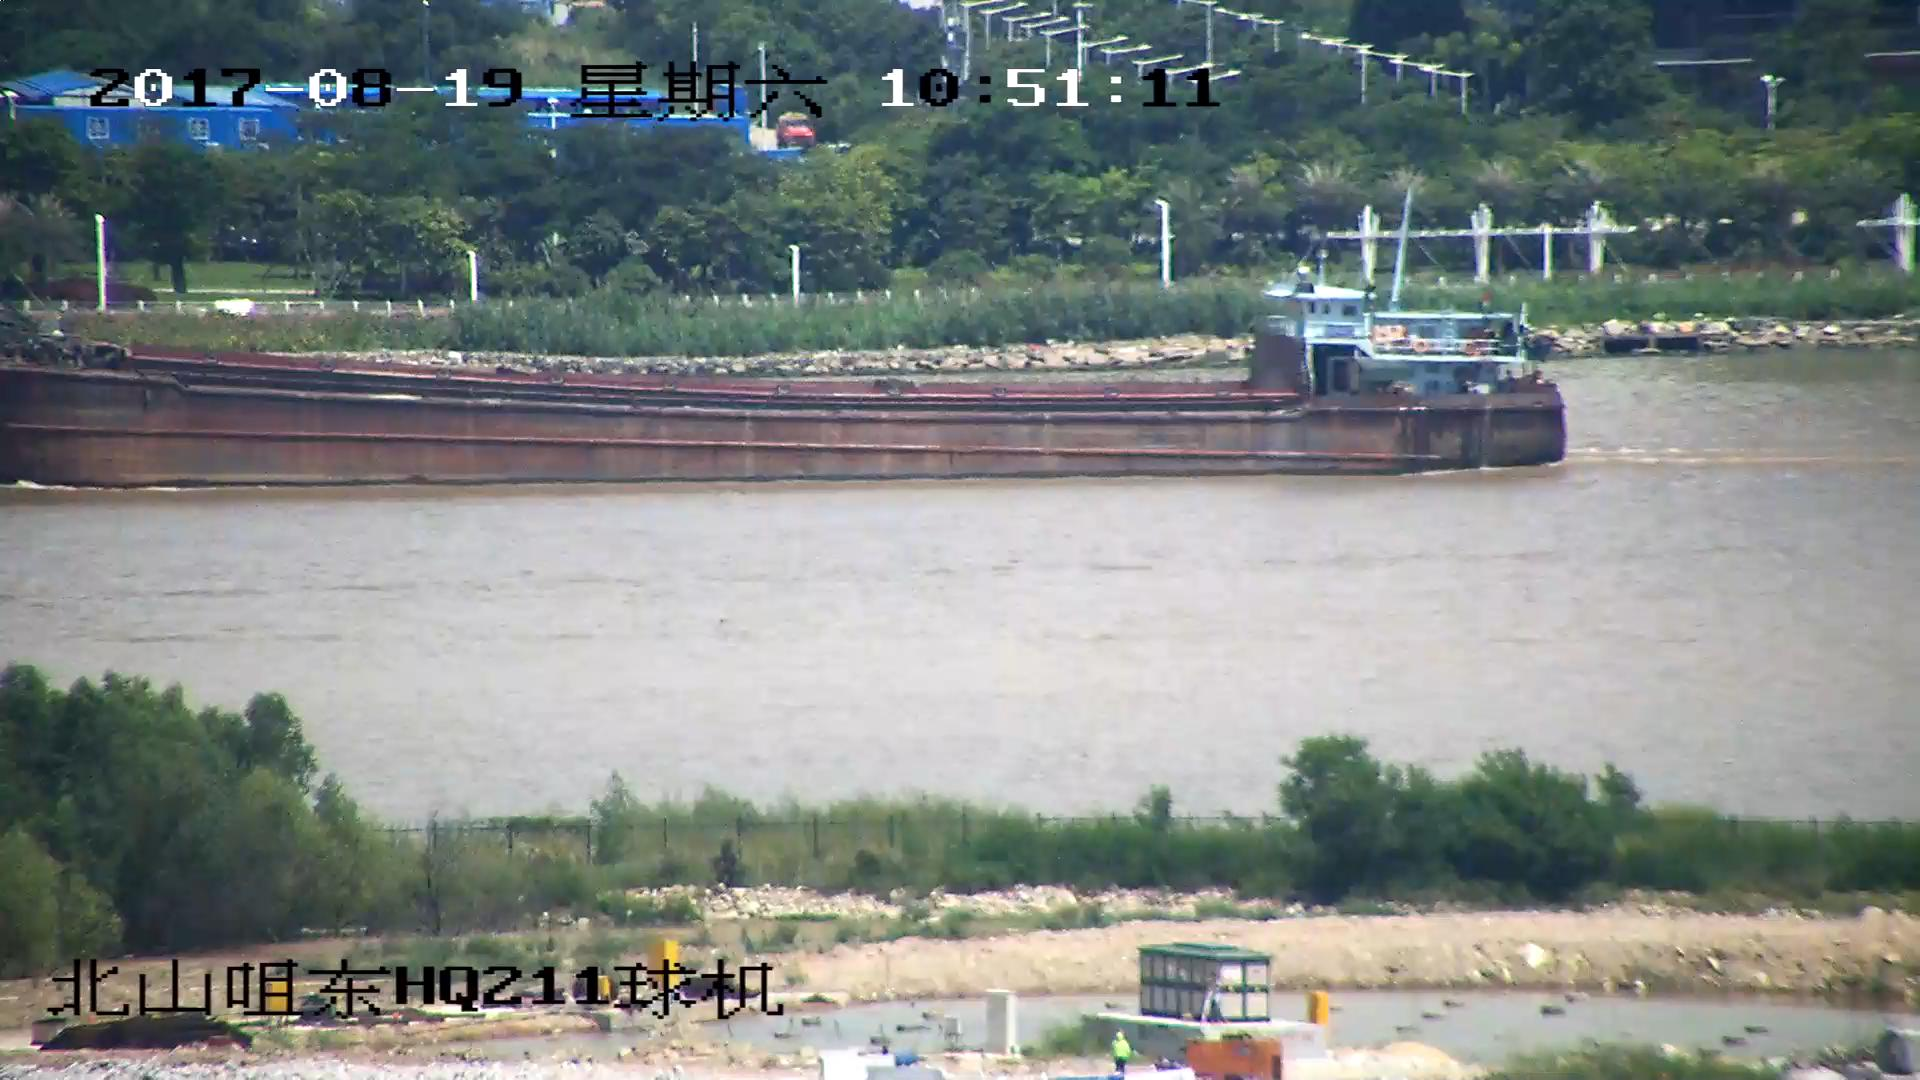bulk cargo carrier: (1, 260, 1571, 485)
